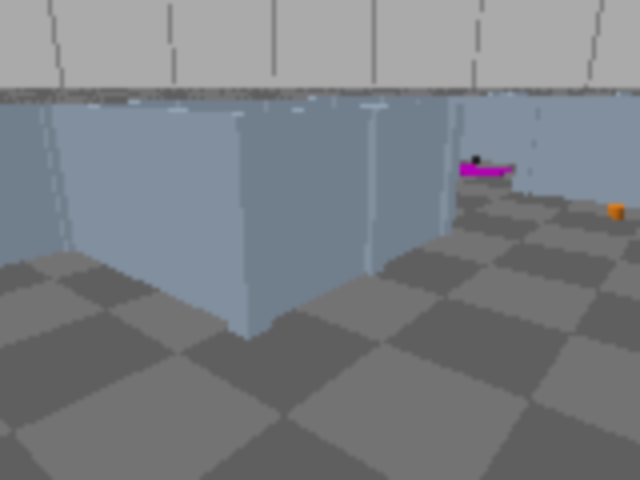goal_zone: (437, 164, 512, 178)
